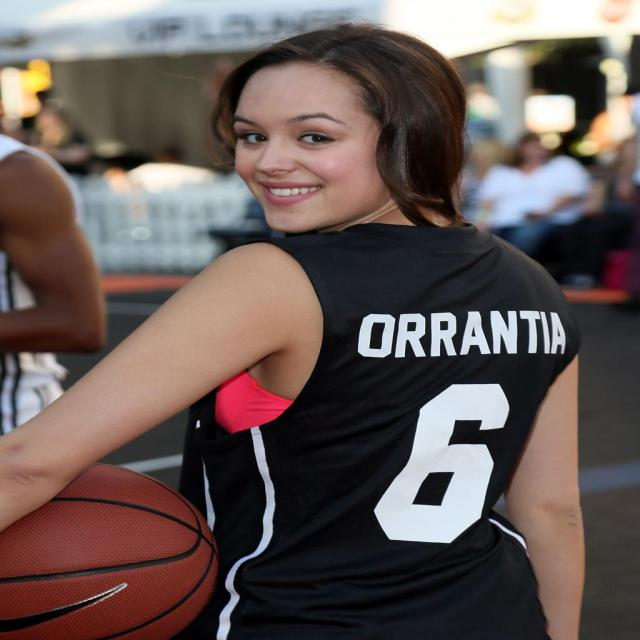Face: (220, 68, 382, 231)
